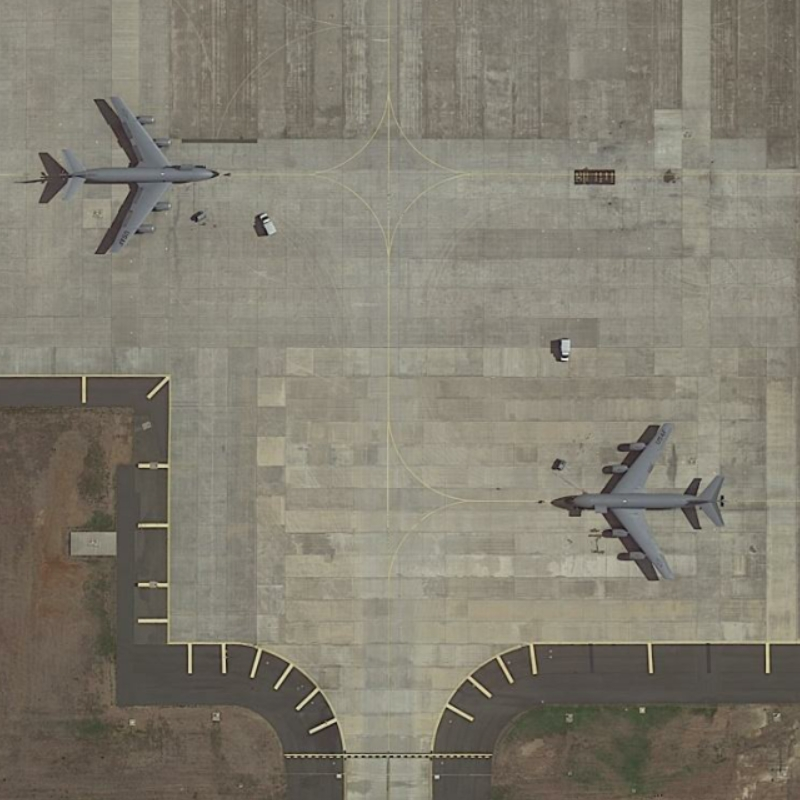A14: (548, 416, 737, 584), (53, 89, 224, 262)
